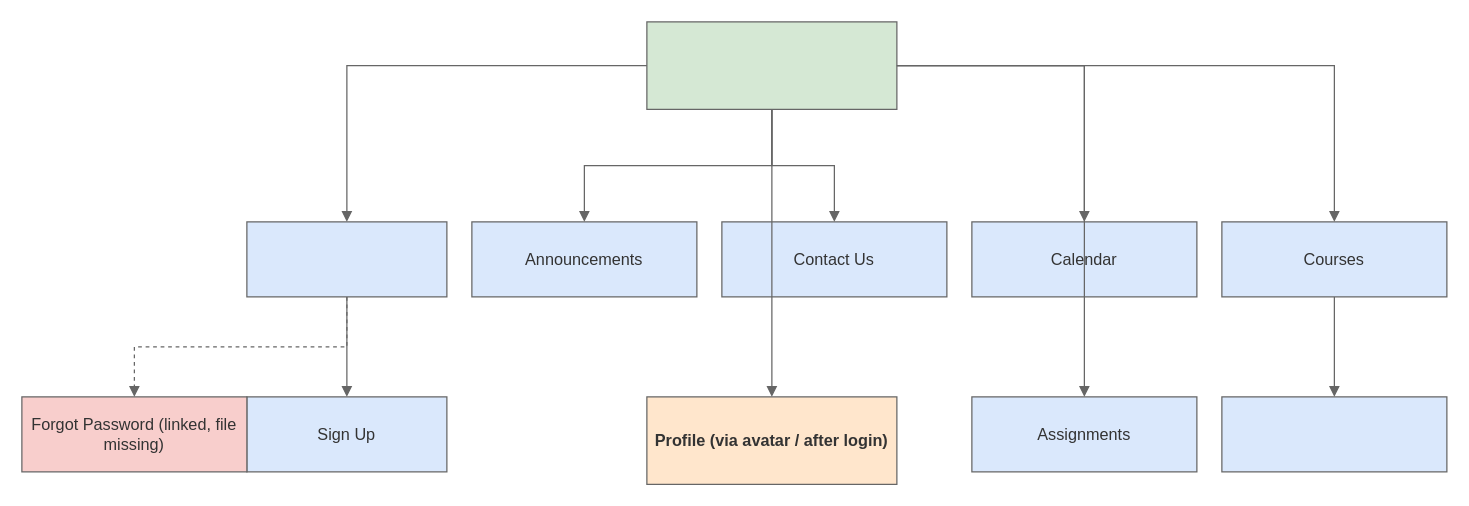
Image size: 1469x506. Some labels were removed from this diagram. Each missing label, with the centre of its shape:
"HOME" belongs at point 771,65.
"Login" belongs at point 346,259.
"Results" belongs at point 1334,434.
